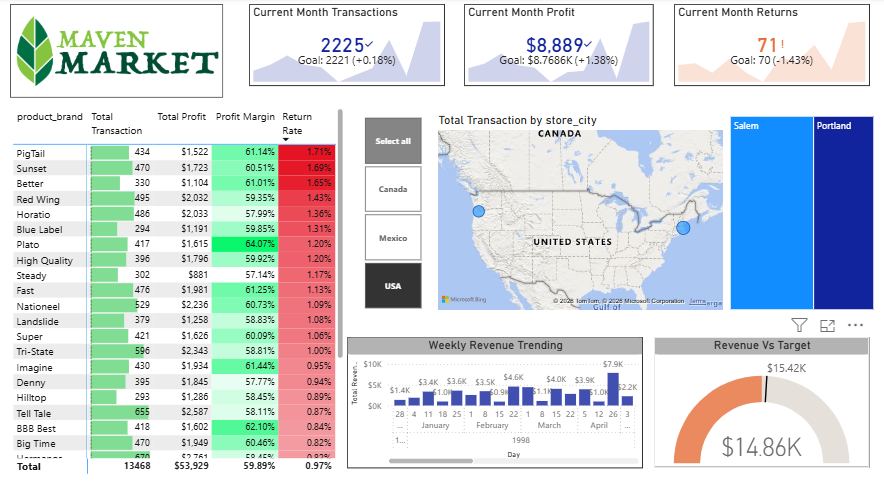

This screenshot's page, from the dashboard's own definition file:
{"tool":"powerbi","page":{"name":"Topline Performance","canvas":[1280,720],"ordinal":1},"visuals":[{"type":"pivotTable","fields":{"Values":["Transactions.Total Transaction","Transactions.Total Profit","Transactions.Profit Margin","Returns_1997-1998.Return Rate"],"Rows":["Products.product_brand"]},"box":[14.4,154.1,485.3,535.7],"z":0},{"type":"image","box":[15,8.3,306.7,135],"z":1000},{"type":"kpi","title":"Current Month Transactions","fields":{"Indicator":["Transactions.Total Transaction"],"TrendLine":["Calendar.Start of Month"],"Goal":["Transactions.Last Month Transactions"]},"box":[358.3,8.3,281.7,118.3],"z":2000},{"type":"kpi","title":"Current Month Profit","fields":{"TrendLine":["Calendar.Start of Month"],"Goal":["Transactions.Last Month Profit"],"Indicator":["Transactions.Total Profit"]},"box":[668.3,8.3,273.3,118.3],"z":3000},{"type":"kpi","title":"Current Month Returns","fields":{"TrendLine":["Calendar.Start of Month"],"Indicator":["Returns_1997-1998.Total Returns"],"Goal":["Returns_1997-1998.Last Month Returns"]},"box":[970,8.3,281.7,118.3],"z":4000},{"type":"map","fields":{"Category":["Stores.store_city"],"Size":["Transactions.Total Transaction"]},"box":[626.4,165.6,420.5,288],"z":5000},{"type":"slicer","fields":{"Values":["Stores.store_country"]},"box":[499.7,165.6,131,288],"z":6000},{"type":"treemap","fields":{"Values":["Transactions.Total Transaction"],"Group":["Stores.store_country","Stores.store_state","Stores.store_city"]},"box":[1046.9,165.6,216,288],"z":7000},{"type":"clusteredColumnChart","title":"Weekly Revenue Trending","fields":{"Y":["Transactions.Total Revenue"],"Category":["Calendar.Start of Week.Variation.Date Hierarchy.Year","Calendar.Start of Week.Variation.Date Hierarchy.Month","Calendar.Start of Week.Variation.Date Hierarchy.Day"]},"box":[499.7,488.2,426.2,188.6],"z":8000},{"type":"gauge","title":"Revenue Vs Target","fields":{"Y":["Transactions.Total Revenue"],"TargetValue":["Transactions.Revenue Target"]},"box":[941.7,488.3,310,188.3],"z":9000}]}

Visuals, with their boxes on the page's 1280x720 design canvas (x1, y1, x2, y2). These are canvas units, not pixel positions in the 884x481 screenshot, which may show the page scaled, cropped or inside an application window:
pivotTable - Transactions.Total Transaction x Transactions.Total Profit: (x1=14, y1=154, x2=500, y2=690)
image: (x1=15, y1=8, x2=322, y2=143)
"Current Month Transactions" kpi: (x1=358, y1=8, x2=640, y2=127)
"Current Month Profit" kpi: (x1=668, y1=8, x2=942, y2=127)
"Current Month Returns" kpi: (x1=970, y1=8, x2=1252, y2=127)
map - Stores.store_city x Transactions.Total Transaction: (x1=626, y1=166, x2=1047, y2=454)
slicer - Stores.store_country: (x1=500, y1=166, x2=631, y2=454)
treemap - Transactions.Total Transaction x Stores.store_country: (x1=1047, y1=166, x2=1263, y2=454)
"Weekly Revenue Trending" clusteredColumnChart: (x1=500, y1=488, x2=926, y2=677)
"Revenue Vs Target" gauge: (x1=942, y1=488, x2=1252, y2=677)
